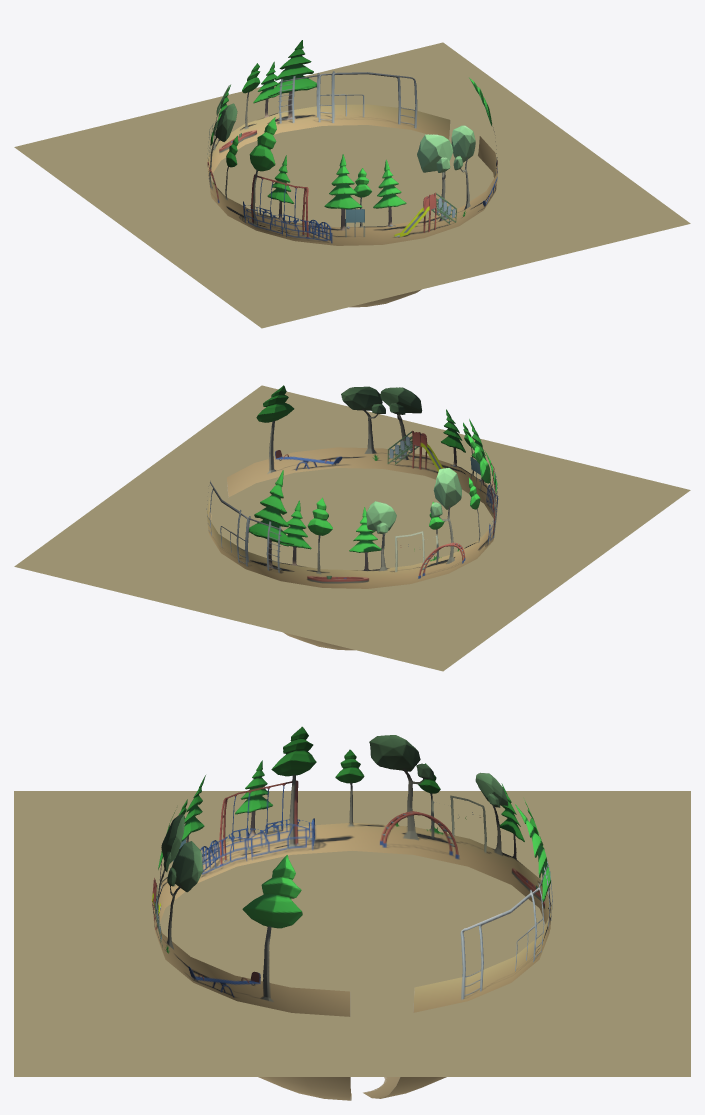
Rendered from Union.fbx.
3 views of the same model, one above another, from view 1: azimuth 30°, elevation 25°; view 2: azimuth 150°, elevation 25°; view 3: azimuth 270°, elevation 25° (orthographic). The views are drawn at different scales.
Visible parts, largest first — view 1: pSphere2; view 2: pSphere2; view 3: pSphere2.
Part boxes in pixels (x1,y1,x2,y2): pSphere2: (14,40,690,328); pSphere2: (14,385,690,671); pSphere2: (14,726,690,1100).
Size of the model in its own units: 239 by 142 by 239.
2 materials, 1 textured.
